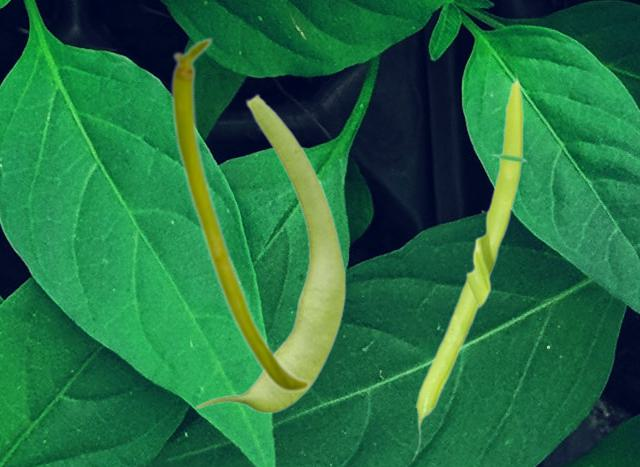french_bean: (170, 36, 310, 393), (194, 92, 346, 412), (411, 72, 527, 462)
